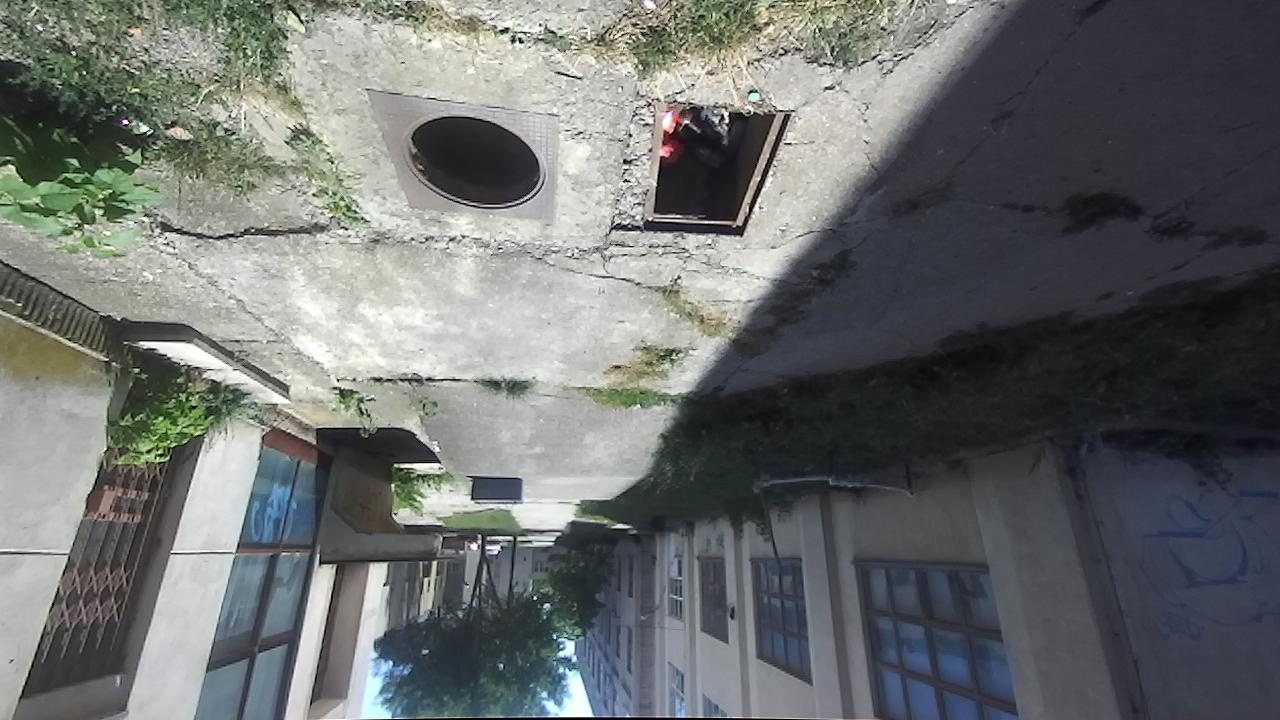drain: (636, 94, 800, 239), (395, 111, 548, 215)
